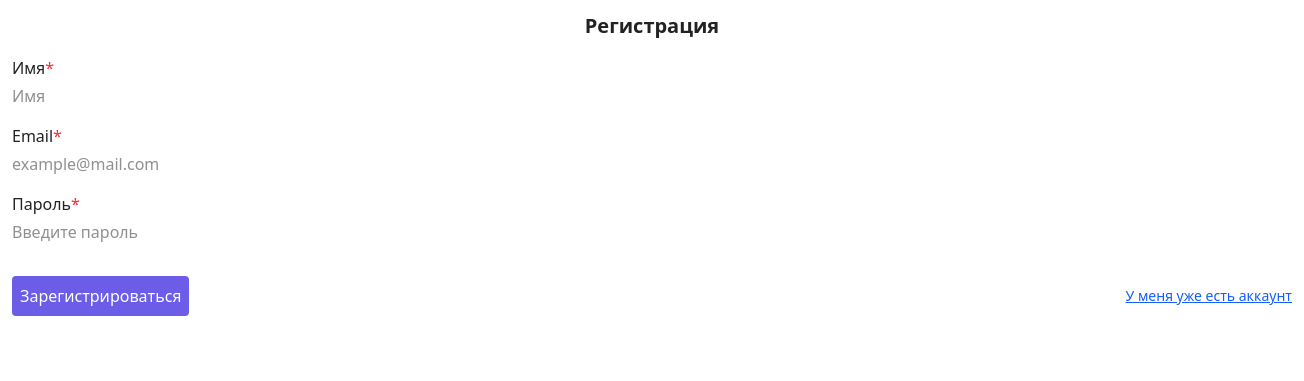
RegisterForm › валидирует email и пароль
Type "not-an-email" into the field with placeholder "example@mail.com".
click(652, 164); type("not-an-email")  # box [12, 152, 1292, 176]
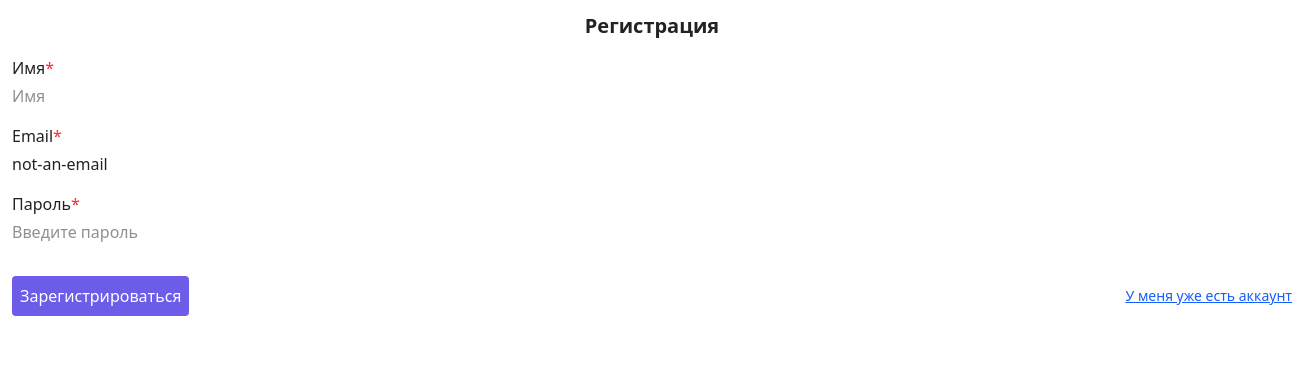
Type "123" into the password field with placeholder "Введите пароль".
click(652, 232); type("123")  # box [12, 220, 1292, 244]
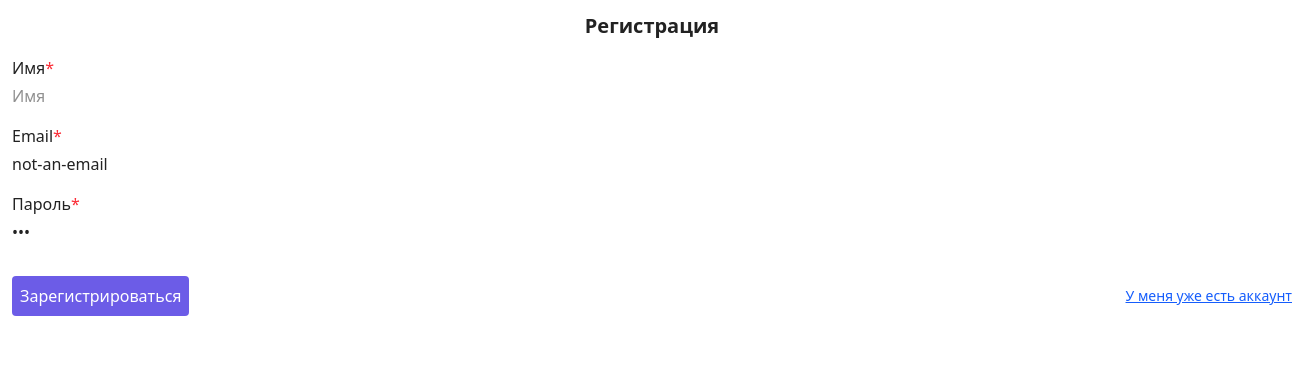
Leave the password field with placeholder "Введите пароль", box [12, 220, 1292, 244]
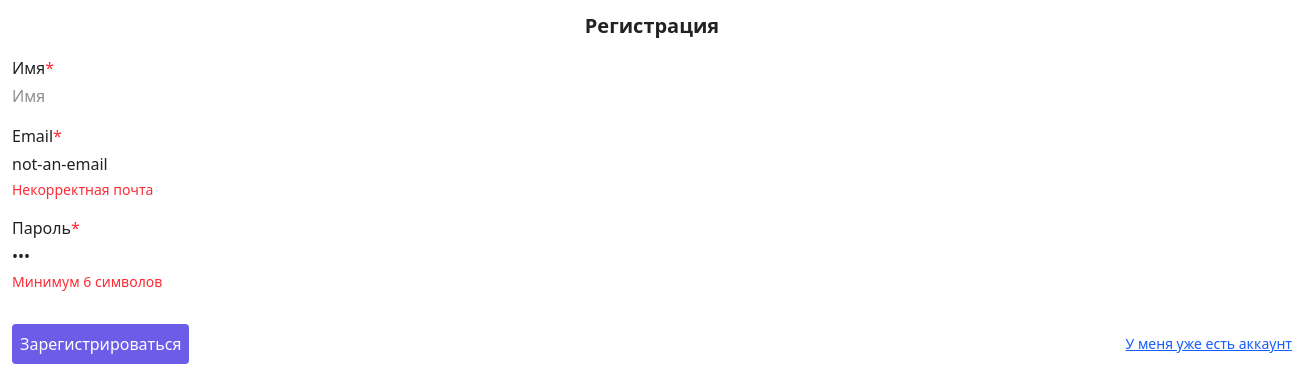
Expected: the text "Некорректная почта" is shown, [12, 180, 154, 199]
Expected: the text "Минимум 6 символов" is shown, [12, 272, 162, 291]
